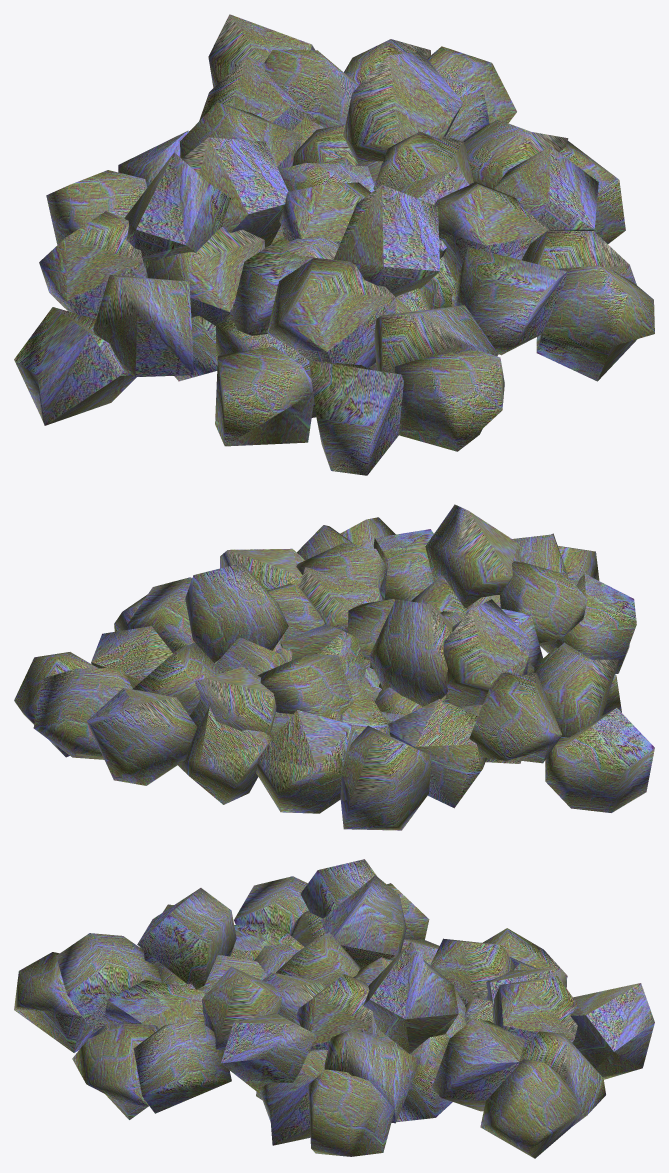
The model's file is COKE.fbx.
The picture shows the model from 3 angles, top to bottom: view 1: azimuth 30°, elevation 25°; view 2: azimuth 150°, elevation 25°; view 3: azimuth 270°, elevation 25°; orthographic projection. The views are drawn at different scales.
Parts seen in each view (by area): view 1: coke1__12__1, coke1__8__1, coke1__25__1, coke1__13__1, coke1__28__1, coke1__14_, coke1__26__1, coke1__10__1, coke1__14__1, coke1__5__1, coke1__29__1, coke1__29_ (+27 smaller); view 2: coke1__25__1, coke1__9_, coke1__15_, coke1__18_, coke1__14_, coke1__29_, coke1__29__1, coke1__14__1, coke1__27__1, coke1__17_, coke1__6_, coke1__3_ (+26 smaller); view 3: coke1__14_, coke1__8_, coke1__6__1, coke1__13_, coke1__14__1, coke1__9_, coke1__11__1, coke1__5_, coke1__9__1, coke1__29_, coke1__8__1, coke1__13__1 (+23 smaller).
Part boxes in pixels (<box>): coke1__12__1: <box>267,257,395,368</box>; coke1__8__1: <box>536,265,654,381</box>; coke1__25__1: <box>14,307,136,425</box>; coke1__13__1: <box>394,349,504,451</box>; coke1__28__1: <box>215,346,314,446</box>; coke1__14_: <box>343,51,462,163</box>; coke1__26__1: <box>93,275,193,377</box>; coke1__10__1: <box>309,360,403,475</box>; coke1__14__1: <box>333,184,439,297</box>; coke1__5__1: <box>452,247,567,355</box>; coke1__29__1: <box>124,152,230,268</box>; coke1__29_: <box>182,137,288,247</box>; coke1__25__1: <box>545,707,654,812</box>; coke1__9_: <box>87,688,197,785</box>; coke1__15_: <box>340,725,431,830</box>; coke1__18_: <box>256,710,358,813</box>; coke1__14_: <box>185,563,288,662</box>; coke1__29_: <box>368,599,452,706</box>; coke1__29__1: <box>443,599,529,707</box>; coke1__14__1: <box>425,504,521,607</box>; coke1__27__1: <box>469,672,561,763</box>; coke1__17_: <box>388,699,486,808</box>; coke1__6_: <box>33,667,132,759</box>; coke1__3_: <box>178,706,273,804</box>; coke1__14_: <box>363,942,458,1053</box>; coke1__8_: <box>480,1059,582,1158</box>; coke1__6__1: <box>133,1018,231,1113</box>; coke1__13_: <box>308,1069,394,1156</box>; coke1__14__1: <box>137,888,236,989</box>; coke1__9_: <box>570,983,654,1079</box>; coke1__11__1: <box>56,933,161,1032</box>; coke1__5_: <box>432,1019,524,1111</box>; coke1__9__1: <box>221,1013,315,1094</box>; coke1__29_: <box>321,875,406,968</box>; coke1__8__1: <box>72,1023,158,1119</box>; coke1__13__1: <box>14,952,108,1052</box>.
Bounding box in the file's own units: 43.88 × 16.6 × 49.87.
